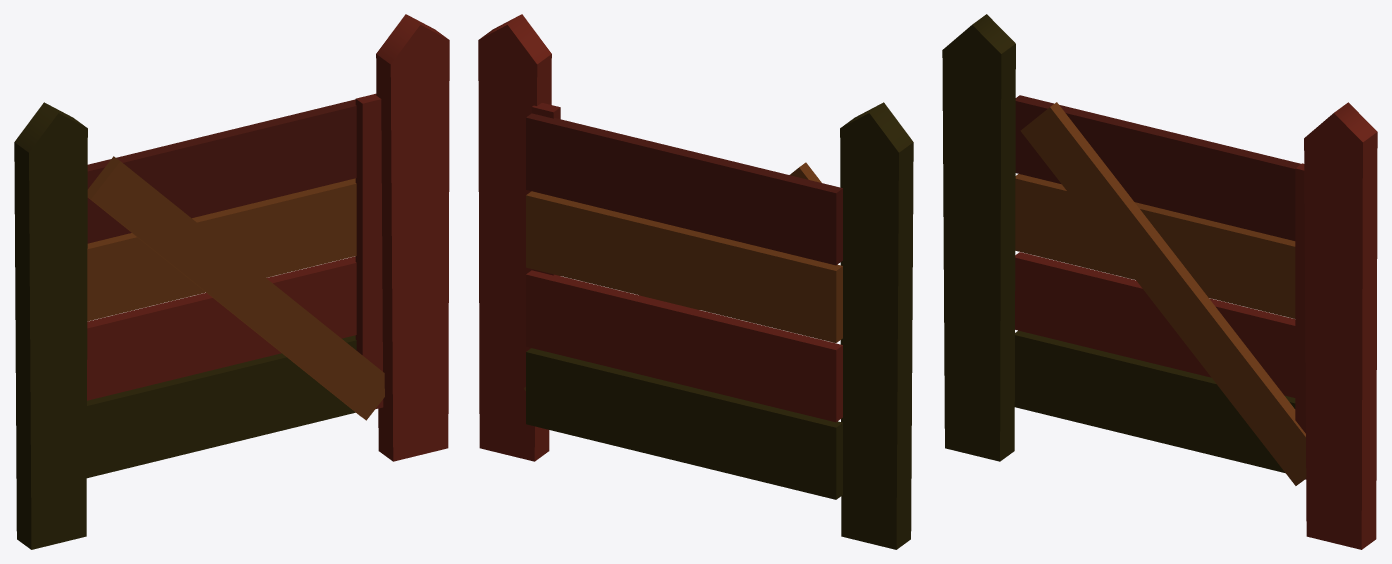
File: gate1.fbx
The picture shows the model from 3 angles, left to right: view 1: azimuth 30°, elevation 25°; view 2: azimuth 150°, elevation 25°; view 3: azimuth 330°, elevation 25°; orthographic projection.
Visible parts, largest first — view 1: gate1; view 2: gate1; view 3: gate1.
Part boxes in pixels (x1,y1,x2,y2): gate1: [14, 14, 449, 549]; gate1: [478, 14, 913, 549]; gate1: [942, 14, 1377, 549].
Bounding box in the file's own units: 2938 × 2873 × 272.
